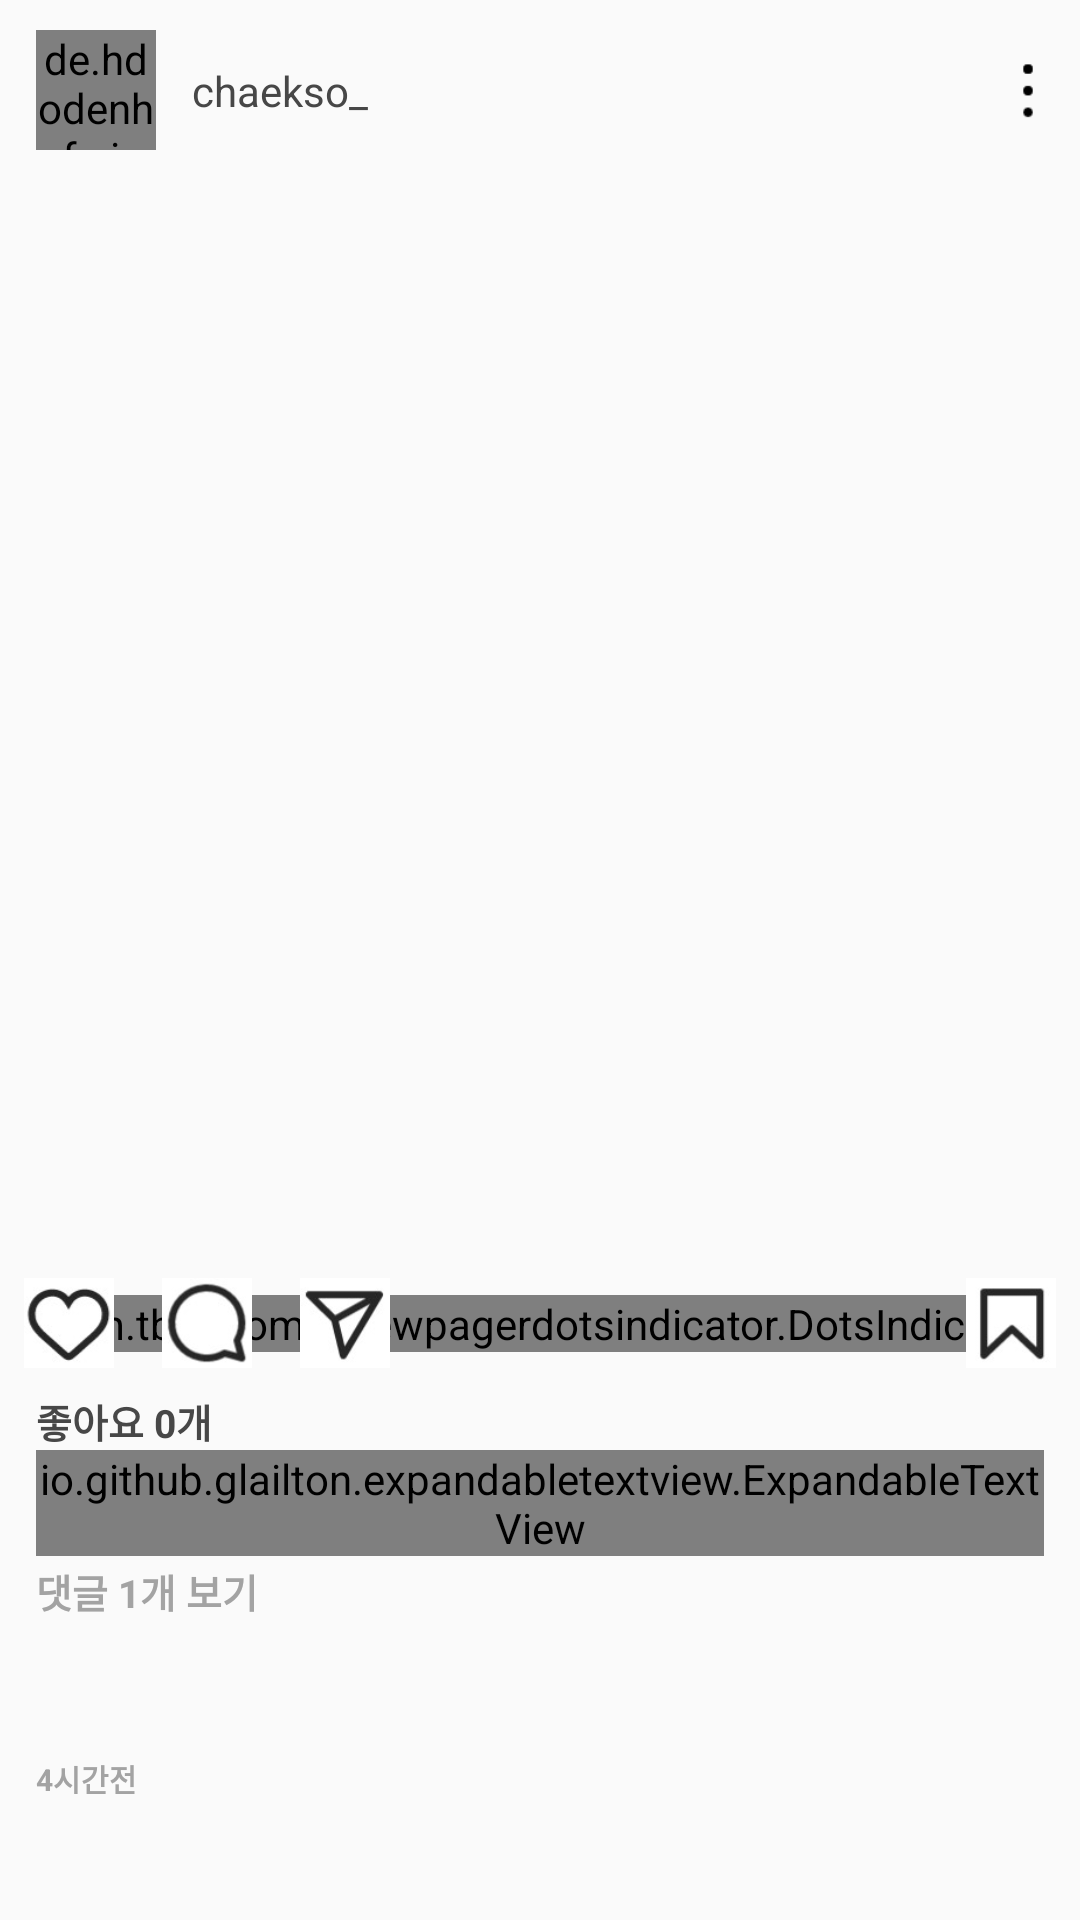

Icons on this 1080x1920 Android screen, each with its box as (x1, y1, x2, y2):
bookmark unclicked: (980, 1288, 1044, 1360)
comment: (138, 1284, 276, 1362)
like unclicked: (27, 1289, 110, 1361)
message: (276, 1290, 414, 1360)
reels settings: (1023, 64, 1033, 118)
